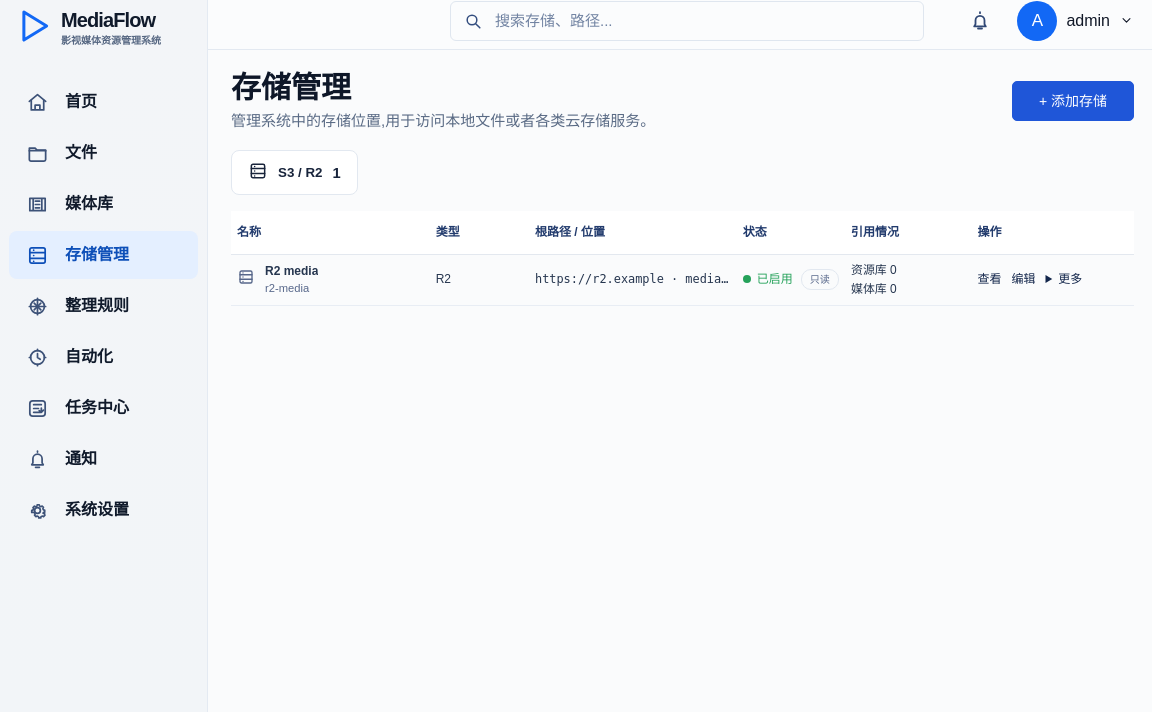
Scenario: Storage lifecycle actions › retains stale copy input until an explicit source review
Click the heading named "更多操作 R2 media" at (1070, 279), box [1058,272,1082,286]
(page scrolled)
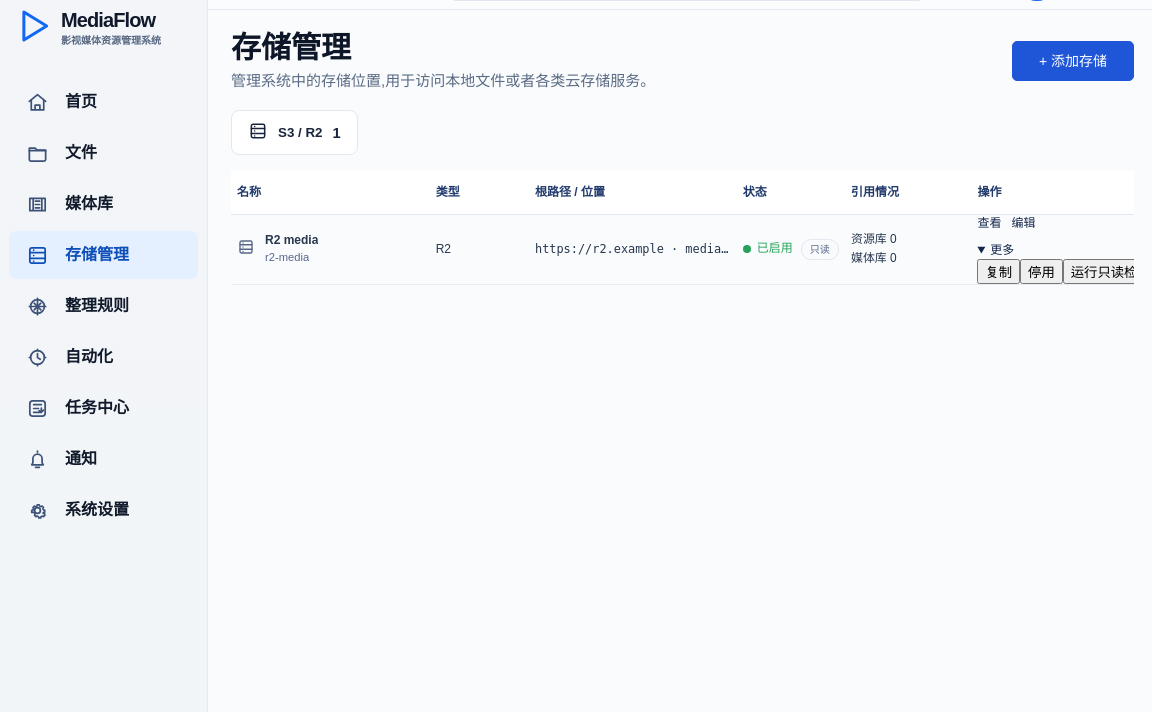
Click the menu item "复制" at (999, 271), box [977,258,1020,284]
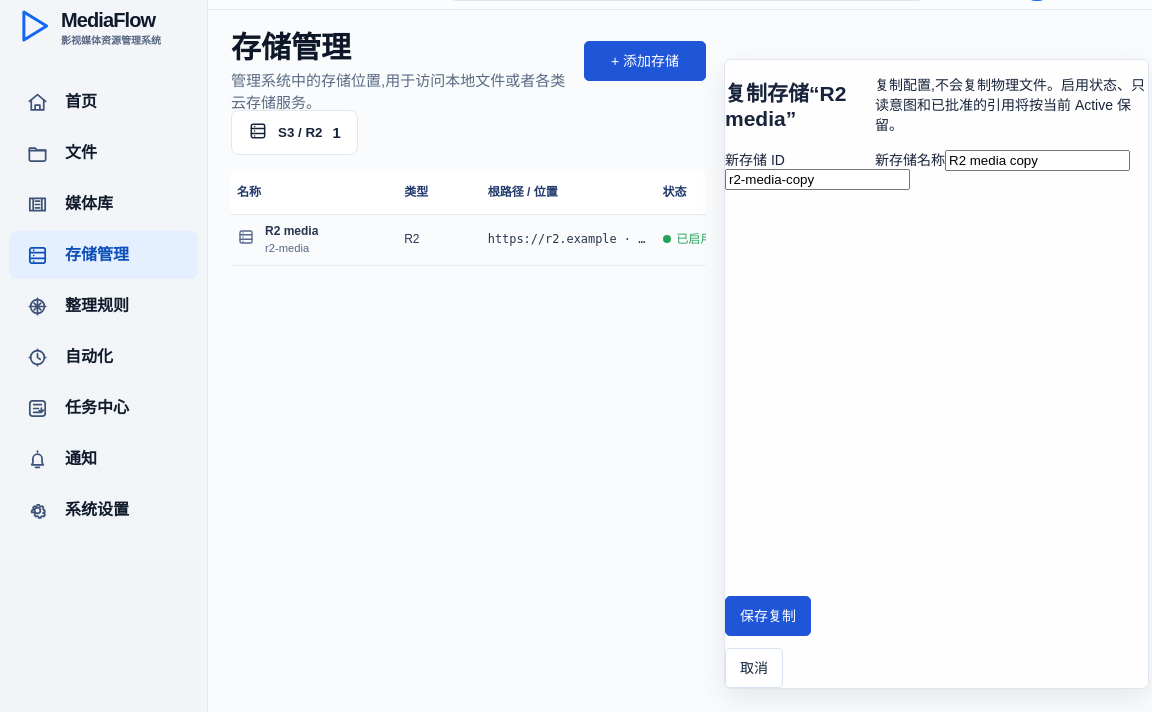
Replace the text in the field labelled "新存储 ID" with "retained-stale-copy-recheck" at (818, 179), box [725,169,910,190]
Replace the text in the field labelled "新存储名称" with "Retained Stale Copy" at (1038, 160), box [945,150,1130,171]
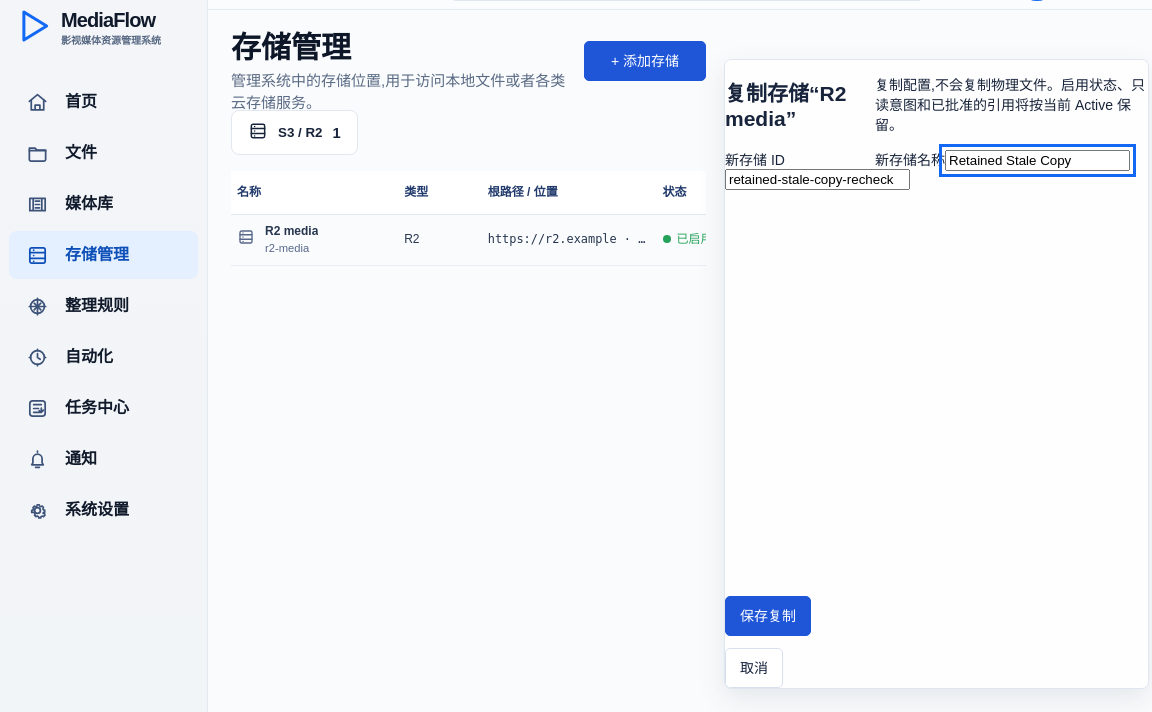
Click the button "保存复制" at (768, 616), box [725,596,811,636]
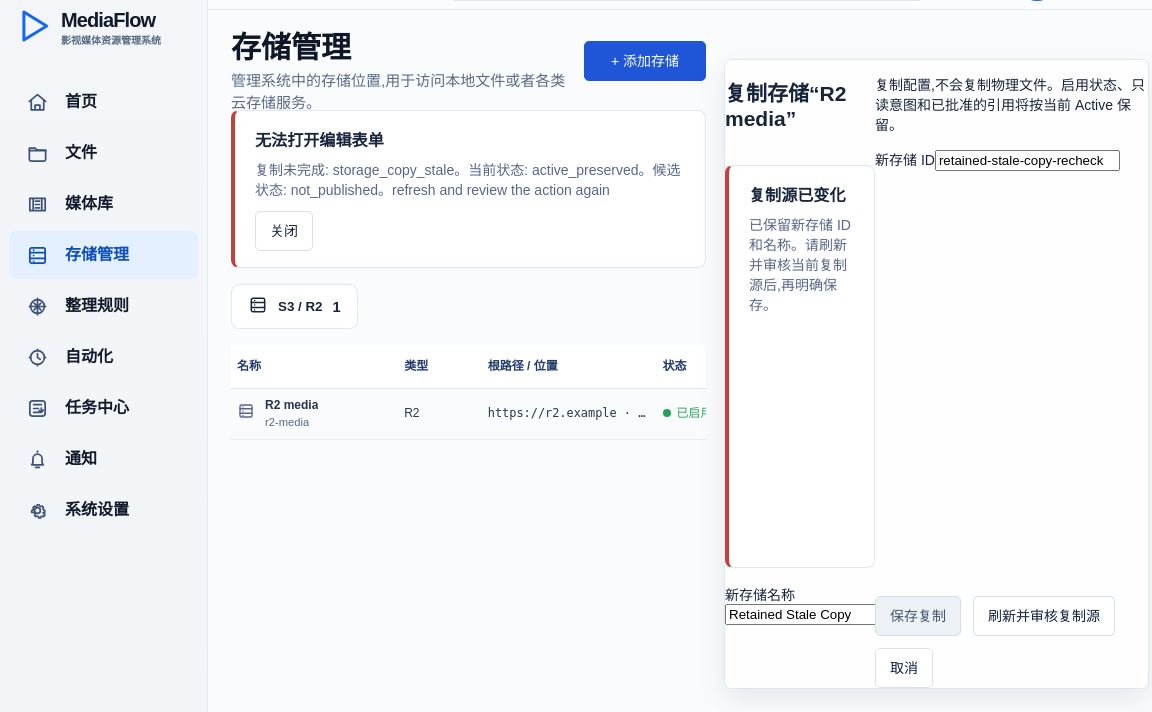
expect the heading "复制源已变化" is shown: met, box [749,182,854,206]
expect the button "保存复制" is disabled: met, box [875,596,961,636]
Click the button "刷新并审核复制源" at (1044, 616), box [973,596,1115,636]
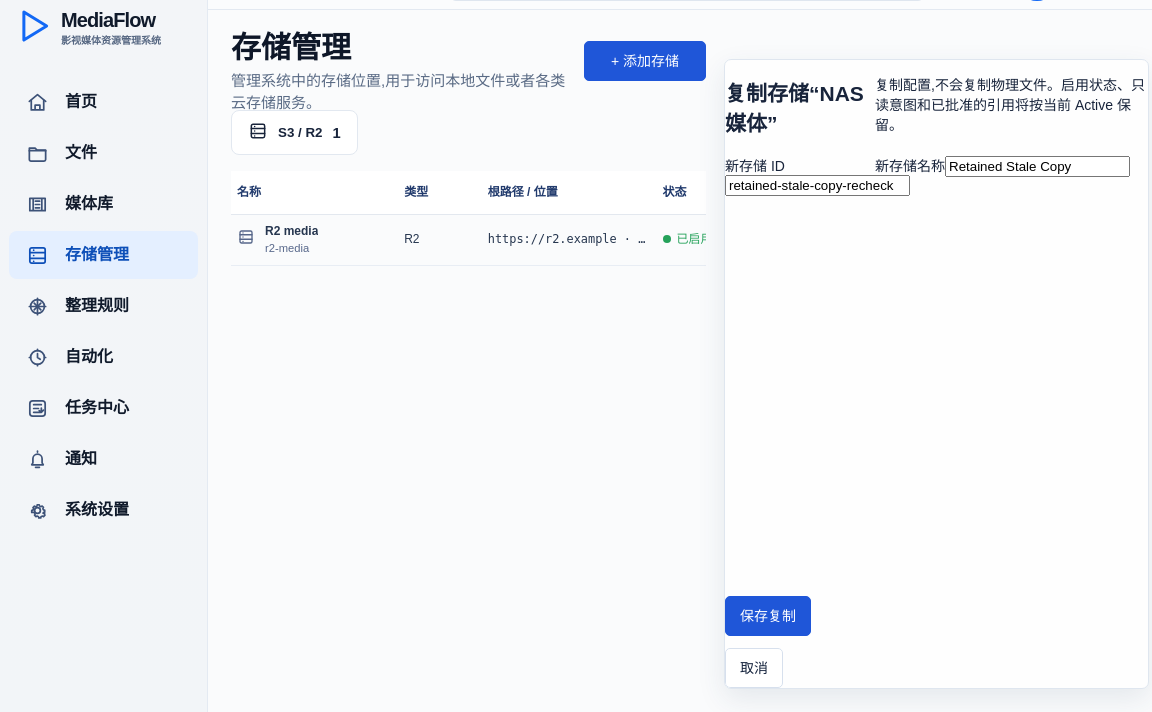
expect the button "保存复制" is enabled: met
Click the button "保存复制" at (768, 616), box [725,596,811,636]
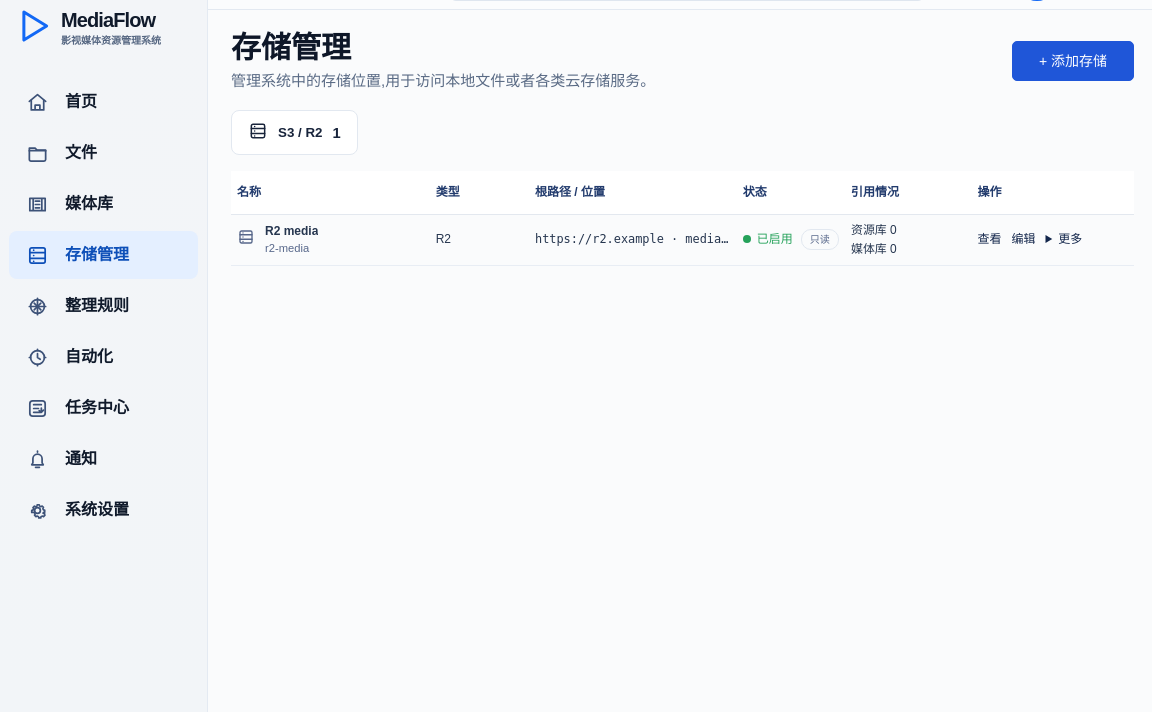
expect the heading "复制存储" is gone: met
